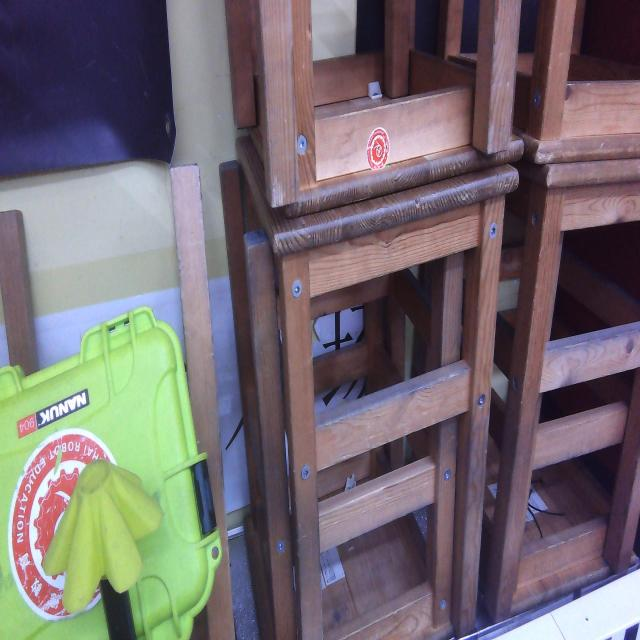Yellow-Stake-Head: (42, 458, 162, 613)
